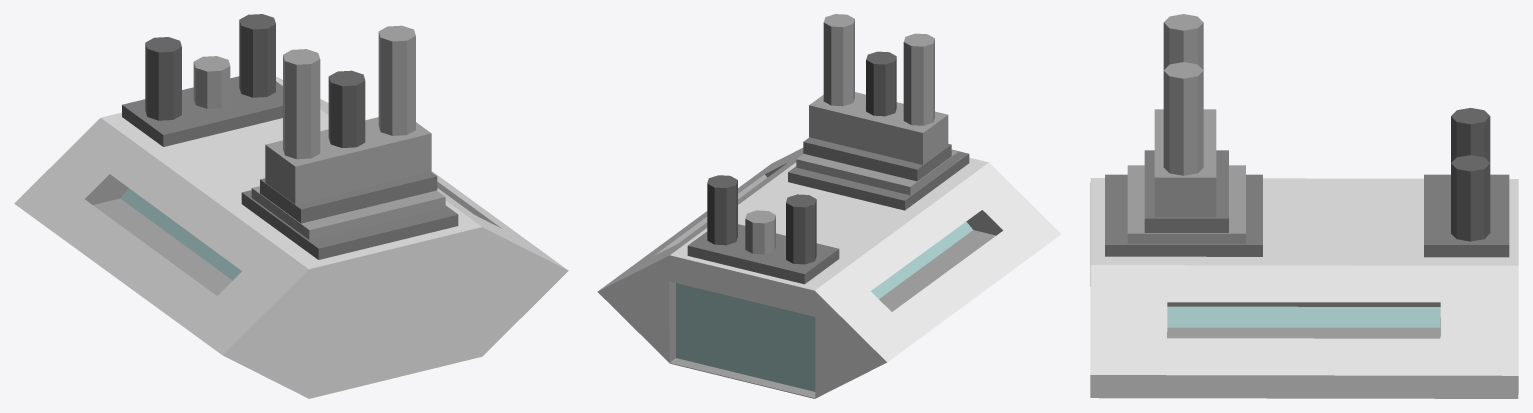
File: FBX Ship Hanger Stage 1.fbx
The picture shows the model from 3 angles, left to right: view 1: azimuth 30°, elevation 25°; view 2: azimuth 150°, elevation 25°; view 3: azimuth 270°, elevation 25°; orthographic projection. The views are drawn at different scales.
Visible parts, largest first — view 1: pCylinder4, pasted__pCylinder5 (×2), pasted__pCube4 (×2), pasted__pasted__pasted__pCube4, pasted__pasted__pCylinder5, pCube4, pasted__pasted__pCube4, pCylinder5; view 2: pCylinder4, pasted__pCylinder5 (×2), pasted__pCube4 (×2), pasted__pasted__pasted__pCube4, pasted__pasted__pCylinder5, pCube4, pasted__pasted__pCube4, pCylinder5; view 3: pCylinder4, pasted__pCube4 (×2), pasted__pasted__pCylinder5, pasted__pCylinder5, pCube4, pasted__pasted__pasted__pCube4, pasted__pasted__pCube4.
Part boxes in pixels (x1,y1,x2,y2): pCylinder4: [14, 76, 568, 398]; pasted__pCylinder5 (×2): [145, 14, 365, 147]; pasted__pCube4 (×2): [122, 76, 445, 239]; pasted__pasted__pasted__pCube4: [265, 117, 431, 204]; pasted__pasted__pCylinder5: [283, 25, 415, 159]; pCube4: [241, 190, 458, 259]; pasted__pasted__pCube4: [260, 172, 437, 223]; pCylinder5: [193, 56, 230, 108]; pCylinder4: [597, 148, 1061, 398]; pasted__pCylinder5 (×2): [707, 51, 896, 264]; pasted__pCube4 (×2): [687, 150, 958, 284]; pasted__pasted__pasted__pCube4: [809, 92, 948, 164]; pasted__pasted__pCylinder5: [823, 14, 934, 125]; pCube4: [788, 149, 969, 210]; pasted__pasted__pCube4: [803, 137, 951, 181]; pCylinder5: [745, 210, 775, 254]; pCylinder4: [1090, 178, 1518, 398]; pasted__pCube4 (×2): [1127, 165, 1509, 257]; pasted__pasted__pCylinder5: [1163, 14, 1203, 175]; pasted__pCylinder5: [1451, 108, 1490, 241]; pCube4: [1105, 174, 1262, 256]; pasted__pasted__pasted__pCube4: [1154, 109, 1216, 216]; pasted__pasted__pCube4: [1144, 150, 1228, 232].
Bounding box in the file's own units: 17.6 × 14.58 × 18.34.
